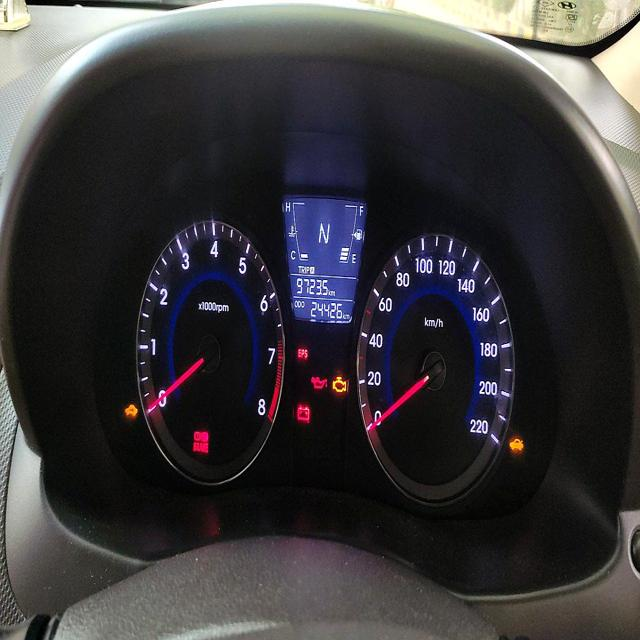odometer: (310, 296, 345, 320)
